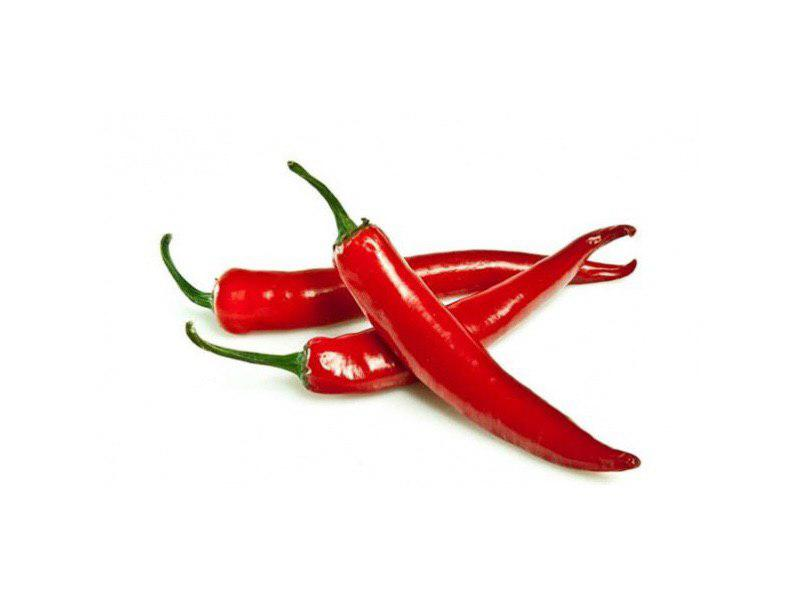lada merah: (328, 218, 643, 477), (286, 228, 640, 400), (209, 236, 681, 348)
